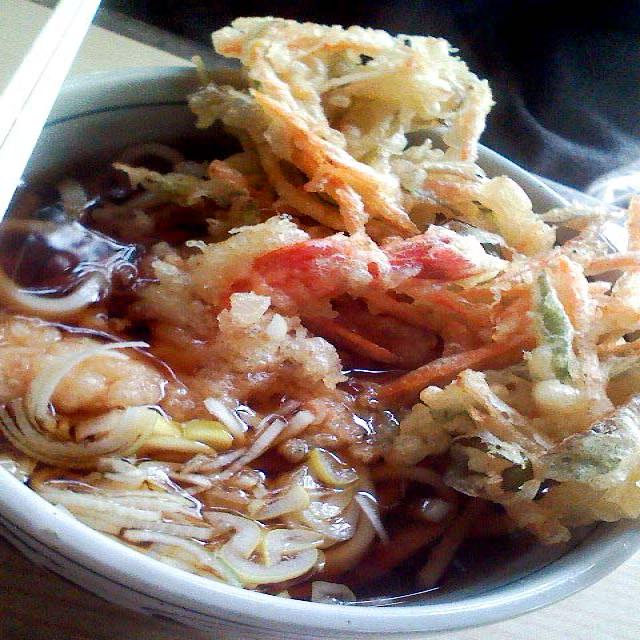面条主食: (1, 22, 640, 600)
